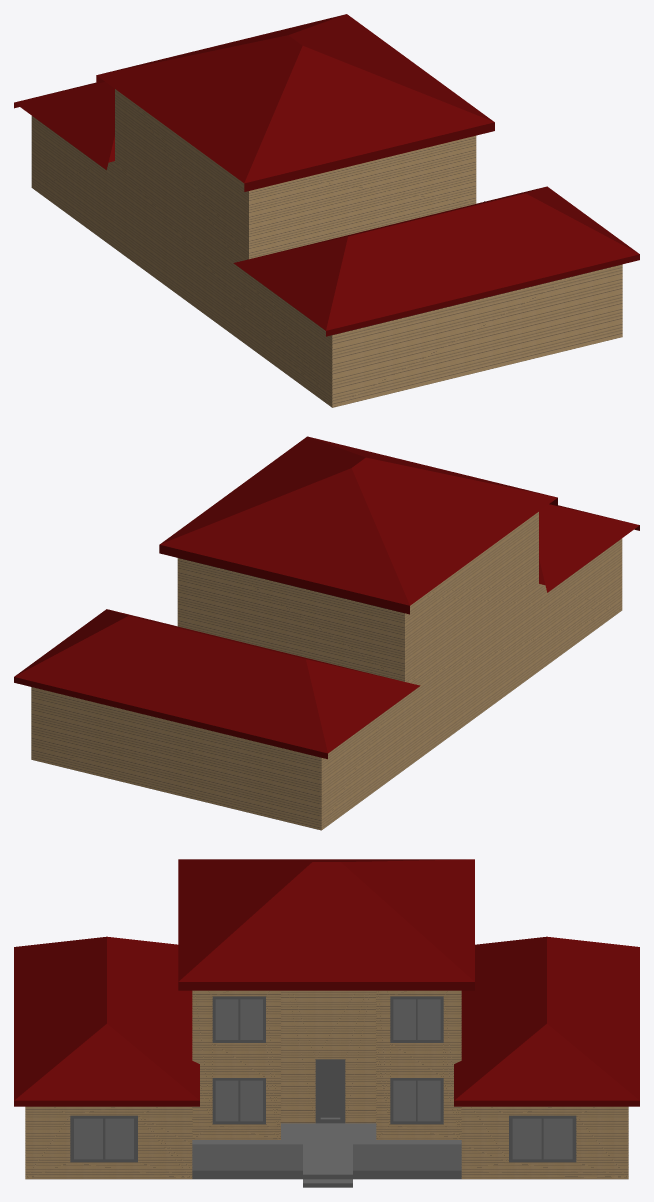
The model's file is houses4.fbx.
3 views of the same model, one above another, from view 1: azimuth 30°, elevation 25°; view 2: azimuth 150°, elevation 25°; view 3: azimuth 270°, elevation 25° (orthographic).
Visible parts, largest first — view 1: Group1; view 2: Group1; view 3: Group1.
Part boxes in pixels (x1,y1,x2,y2): Group1: (14, 14, 639, 407); Group1: (14, 436, 639, 830); Group1: (14, 859, 639, 1187).
Size of the model in its own units: 1145 by 788 by 1939.
